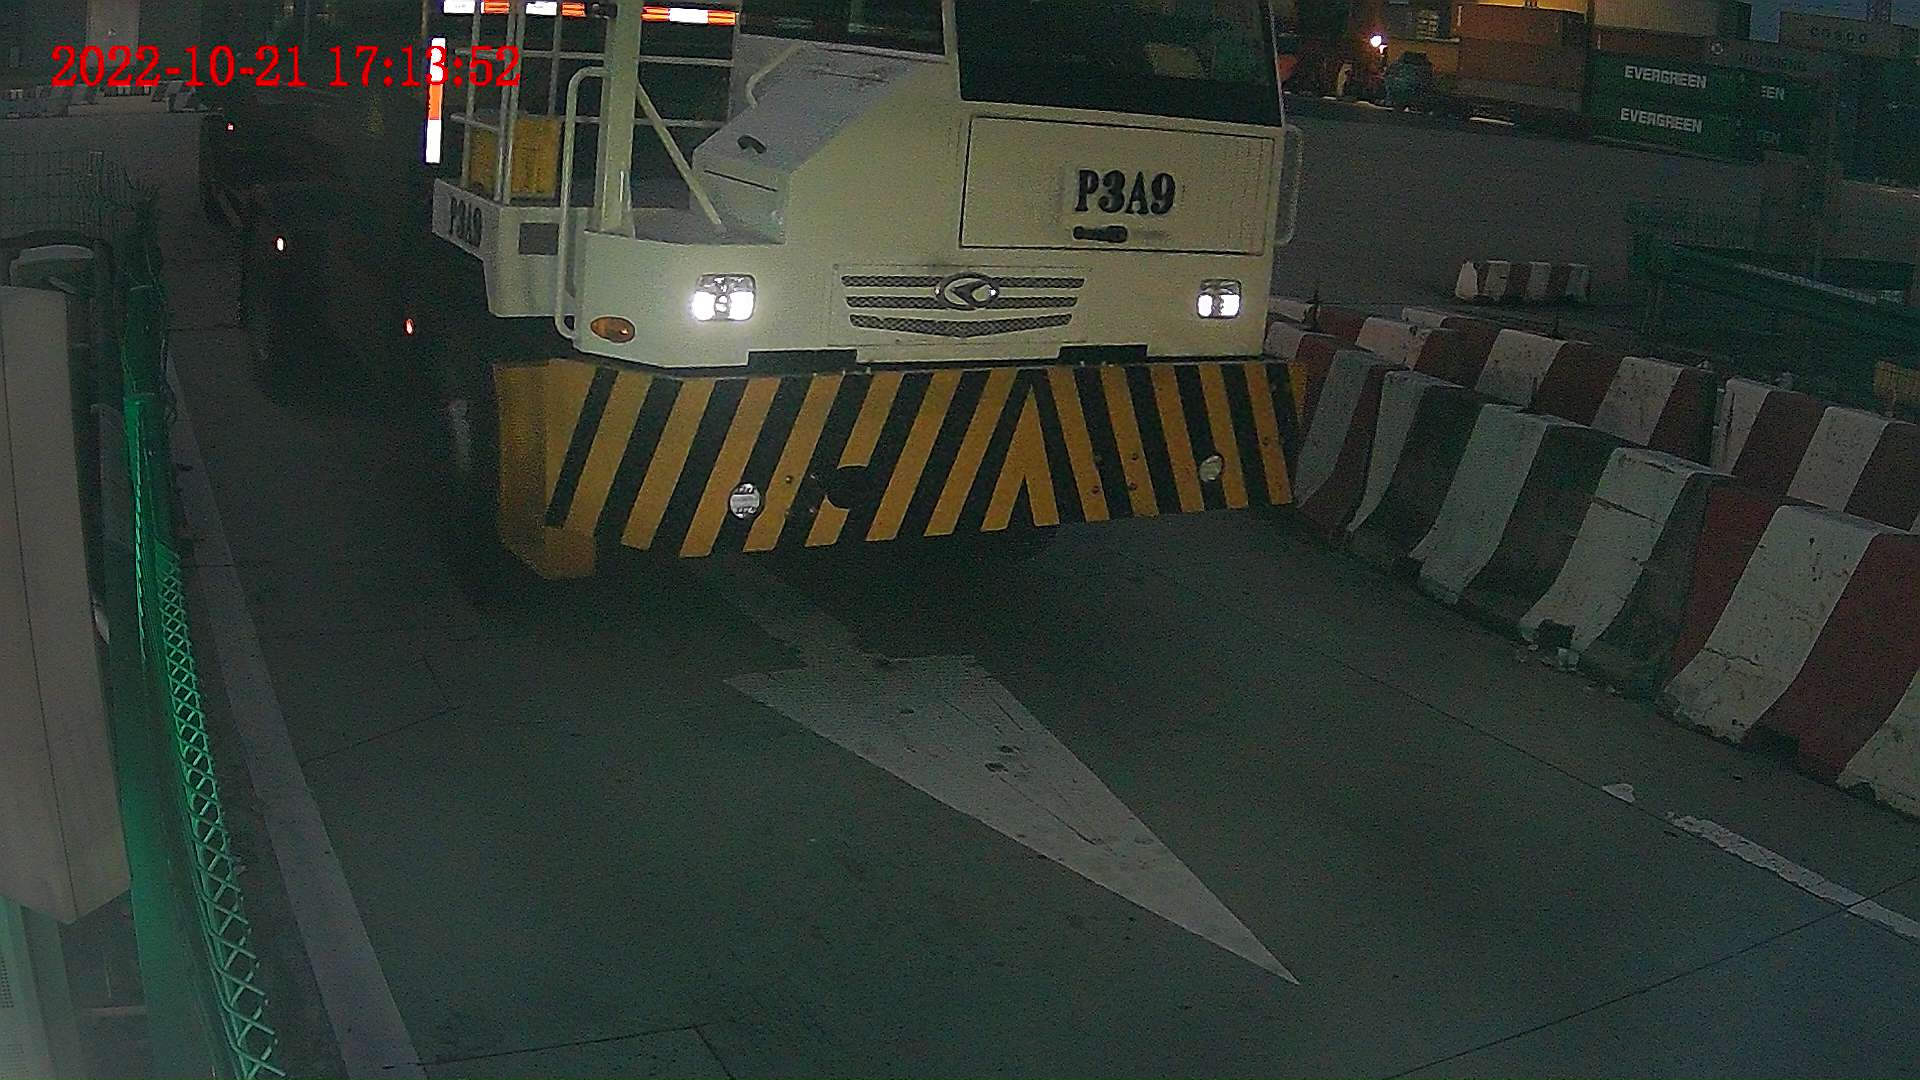head: (428, 1, 1305, 592)
